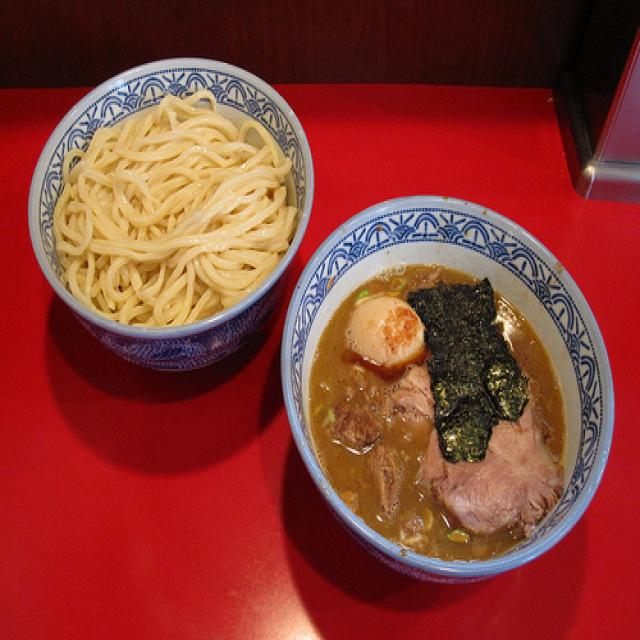面条主食: (55, 89, 572, 567)
